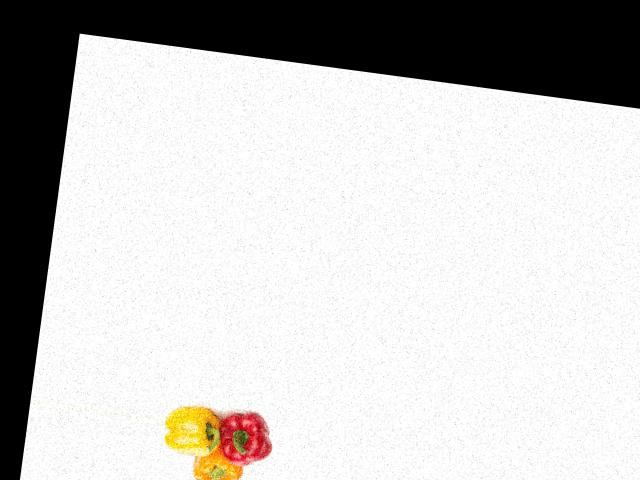bell_pepper: (161, 398, 221, 460)
